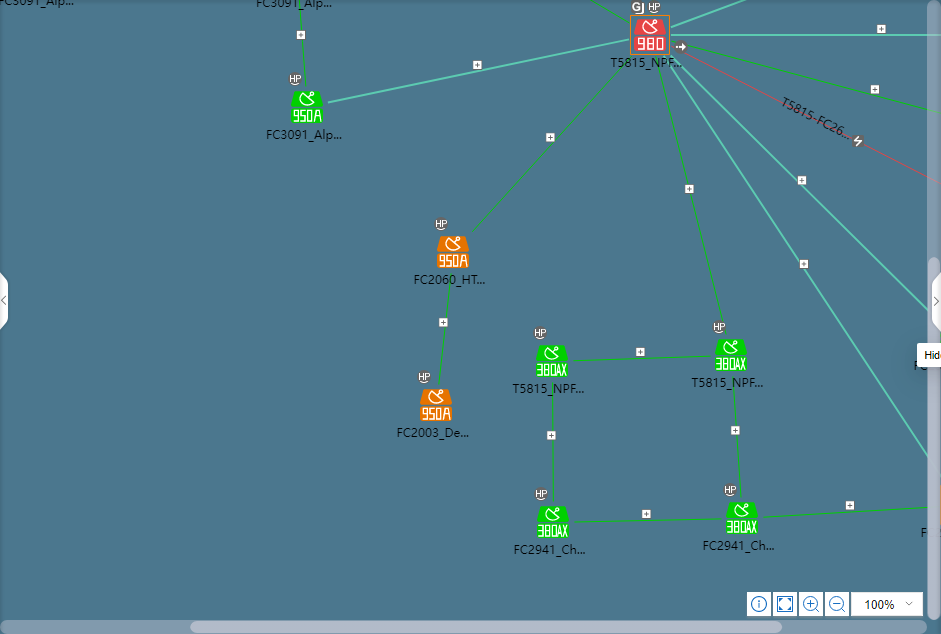Link_Blue: (662, 56, 928, 458), (670, 54, 928, 312), (327, 38, 629, 104), (671, 0, 749, 30), (671, 34, 927, 37)
Link_Green: (469, 55, 636, 234), (654, 57, 727, 335), (671, 39, 928, 113), (763, 506, 927, 519), (437, 273, 453, 385), (731, 376, 743, 499), (573, 355, 710, 363), (590, 0, 630, 25), (574, 518, 721, 524), (297, 0, 307, 87), (551, 383, 554, 503)
Link_Red: (672, 44, 928, 181)
RTN_Green: (537, 507, 568, 539), (726, 504, 757, 535), (715, 340, 746, 371), (291, 91, 322, 122), (536, 346, 567, 377)
RTN_Orange: (420, 390, 451, 422), (437, 237, 468, 268)
RTN_Red: (633, 18, 667, 51)
